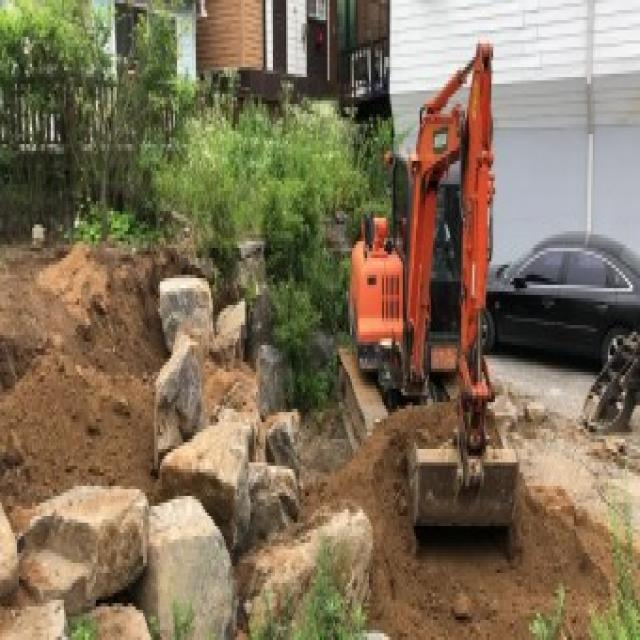excavator: (335, 43, 519, 531)
plant: (58, 0, 179, 210)
